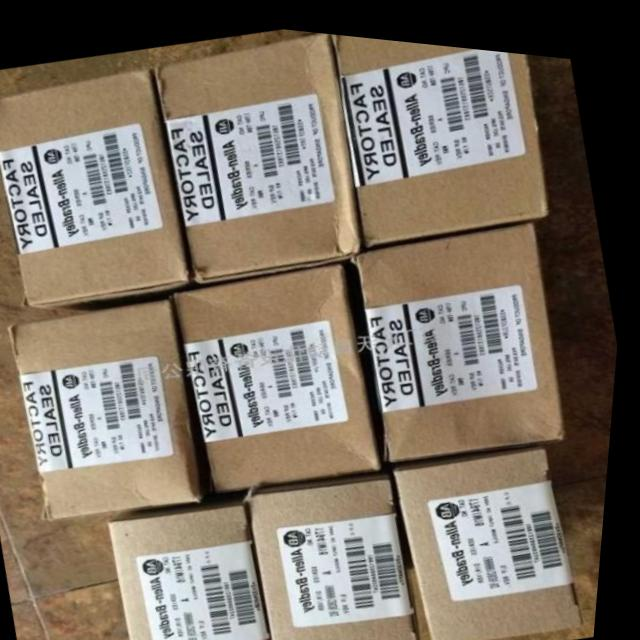box: (154, 26, 363, 279), (353, 211, 570, 451), (176, 256, 392, 487), (0, 65, 202, 310), (13, 295, 221, 518), (331, 27, 549, 238), (400, 432, 592, 634), (251, 455, 429, 640), (117, 483, 285, 640)
